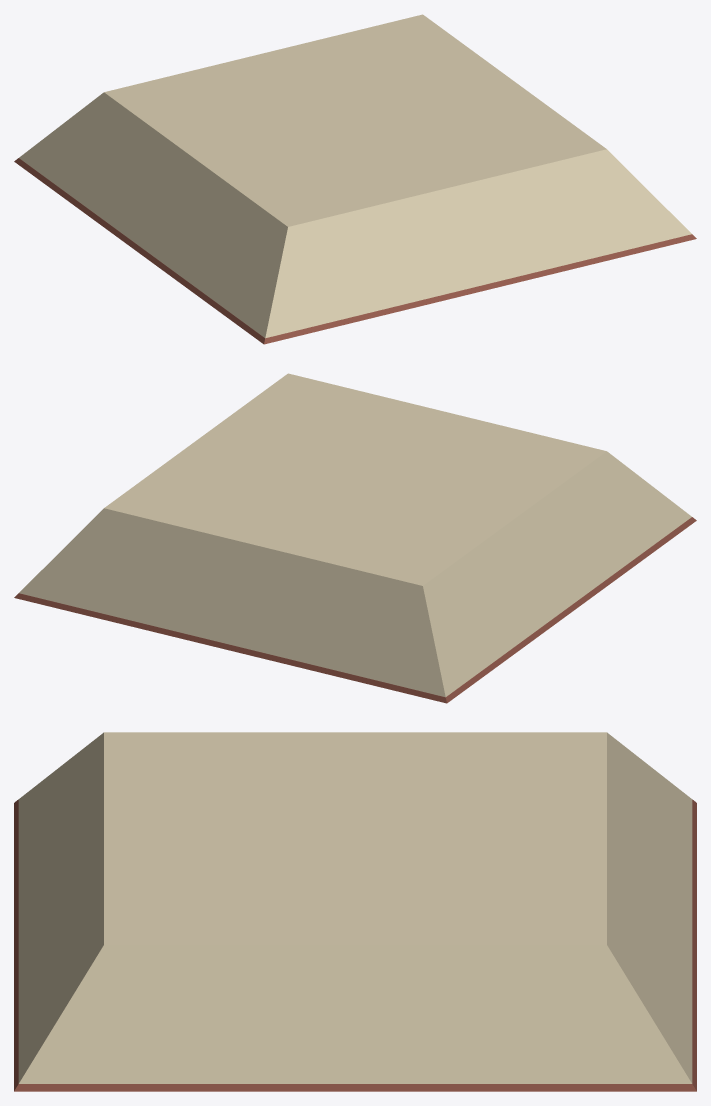
Rendered from giza-khafre-b60.glb.
3 renders of one model, top to bottom at view 1: azimuth 30°, elevation 25°; view 2: azimuth 150°, elevation 25°; view 3: azimuth 270°, elevation 25°, orthographic. The views are drawn at different scales.
Bounding box in the file's own units: 215 × 37.77 × 215.
